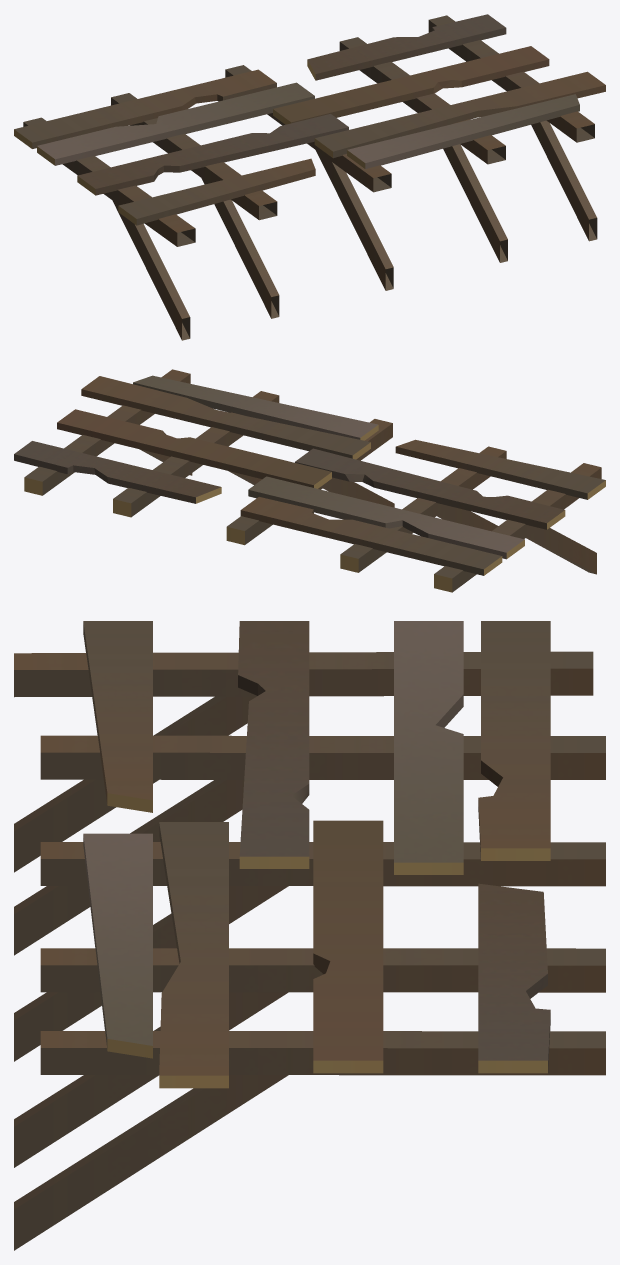
The model's file is Shed_1B.fbx.
3 renders of one model, top to bottom at view 1: azimuth 30°, elevation 25°; view 2: azimuth 150°, elevation 25°; view 3: azimuth 270°, elevation 25°, orthographic. The views are drawn at different scales.
Visible parts, largest first — view 1: polySurface9835; view 2: polySurface9835; view 3: polySurface9835.
Part boxes in pixels (x1,y1,x2,y2): polySurface9835: (14, 14, 605, 340); polySurface9835: (14, 369, 605, 592); polySurface9835: (14, 621, 605, 1250).
Bounding box in the file's own units: 428 × 96.1 × 236.
